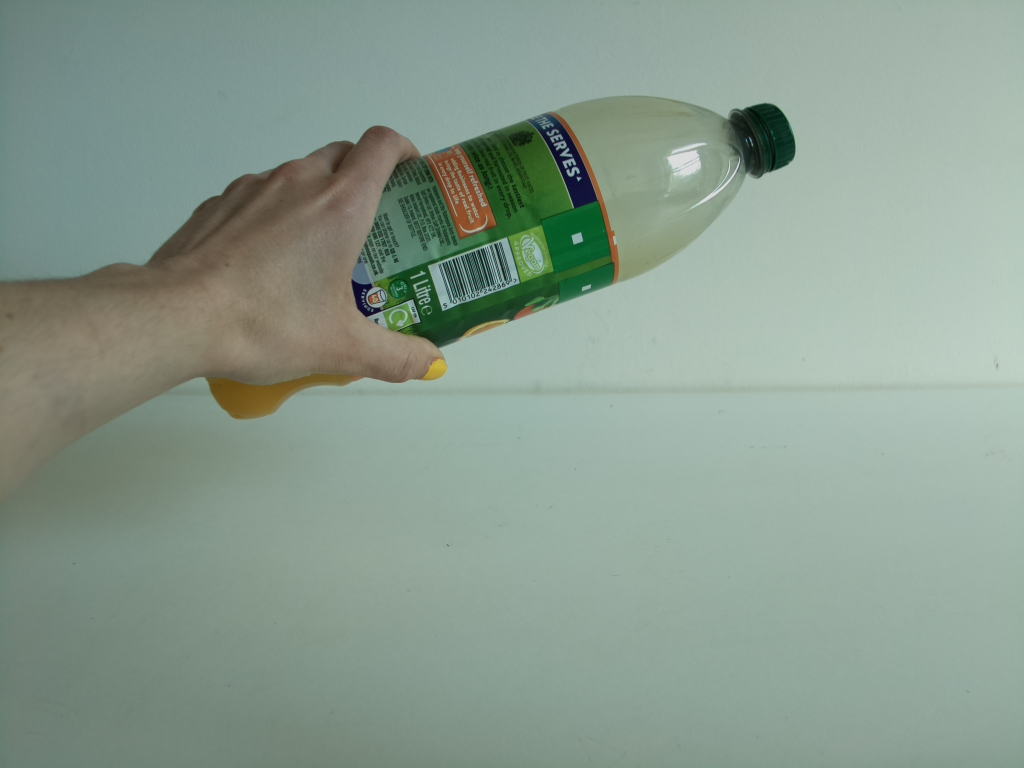juice: (189, 87, 796, 426)
